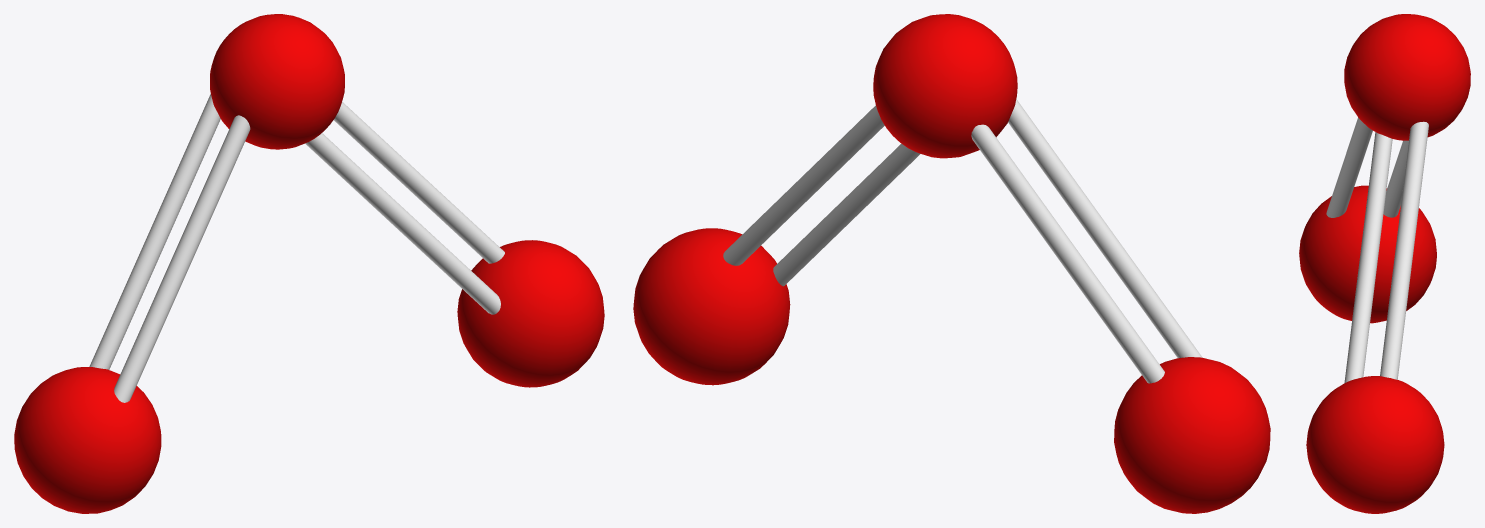
3 views of the same model, side by side, from view 1: azimuth 30°, elevation 25°; view 2: azimuth 150°, elevation 25°; view 3: azimuth 270°, elevation 25° (orthographic). The views are drawn at different scales.
Visible parts, largest first — view 1: Sphere021, Sphere019, Sphere020, Cylinder032, Cylinder031, Cylinder030, Cylinder027; view 2: Sphere021, Sphere019, Sphere020, Cylinder031, Cylinder032, Cylinder027, Cylinder030; view 3: Sphere019, Sphere020, Sphere021, Cylinder027, Cylinder030, Cylinder032, Cylinder031.
Boxes of the visible parts, x1=… form: Sphere021: x1=14, y1=367, x2=161, y2=513; Sphere019: x1=457, y1=240, x2=604, y2=387; Sphere020: x1=210, y1=14, x2=344, y2=149; Cylinder032: x1=114, y1=115, x2=250, y2=402; Cylinder031: x1=89, y1=94, x2=220, y2=369; Cylinder030: x1=305, y1=133, x2=500, y2=314; Cylinder027: x1=334, y1=102, x2=504, y2=263; Sphere021: x1=1114, y1=357, x2=1270, y2=513; Sphere019: x1=633, y1=228, x2=790, y2=385; Sphere020: x1=873, y1=14, x2=1017, y2=158; Cylinder031: x1=971, y1=124, x2=1164, y2=383; Cylinder032: x1=1008, y1=99, x2=1202, y2=358; Cylinder027: x1=723, y1=105, x2=884, y2=265; Cylinder030: x1=773, y1=144, x2=920, y2=286; Sphere019: x1=1306, y1=376, x2=1444, y2=513; Sphere020: x1=1344, y1=14, x2=1470, y2=140; Sphere021: x1=1299, y1=185, x2=1436, y2=323; Cylinder027: x1=1380, y1=121, x2=1428, y2=379; Cylinder030: x1=1344, y1=132, x2=1392, y2=383; Cylinder032: x1=1326, y1=117, x2=1372, y2=217; Cylinder031: x1=1383, y1=140, x2=1408, y2=217.
Size of the model in its own units: 87.87 by 61.39 by 24.29.
